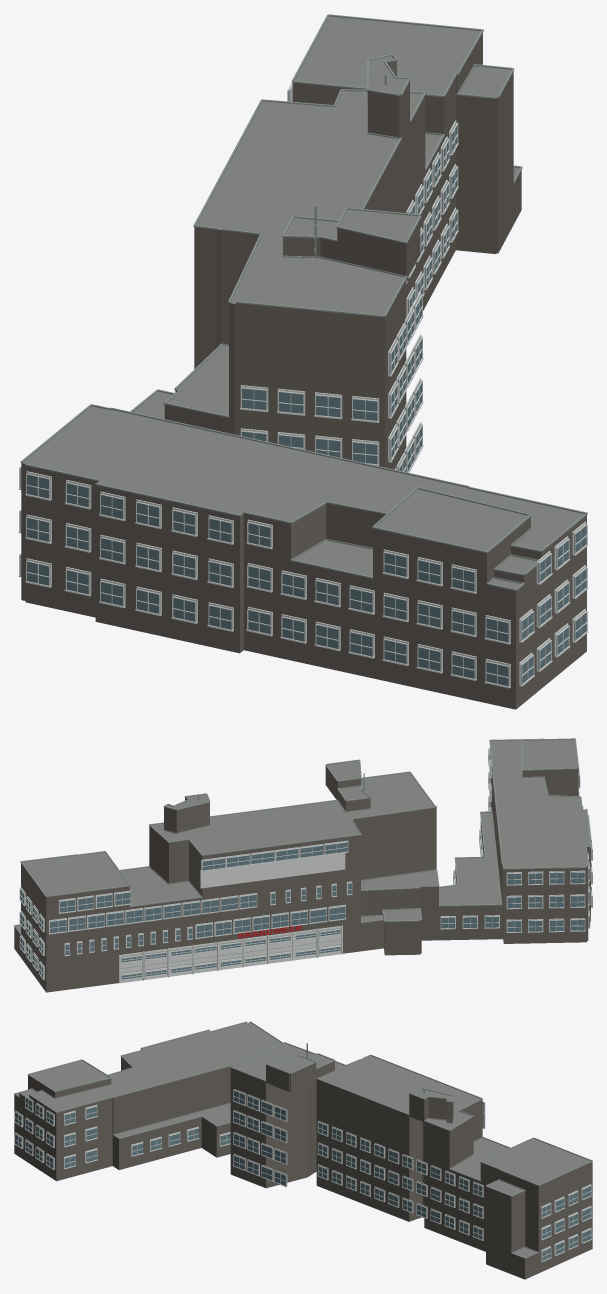
File: fire-station-nico.glb
The picture shows the model from 3 angles, top to bottom: view 1: azimuth 30°, elevation 25°; view 2: azimuth 150°, elevation 25°; view 3: azimuth 270°, elevation 25°; orthographic projection. The views are drawn at different scales.
Visible parts, largest first — view 1: fire-station-nico; view 2: fire-station-nico; view 3: fire-station-nico.
Part boxes in pixels (<box>): fire-station-nico: <box>18,14,588,709</box>; fire-station-nico: <box>14,738,592,992</box>; fire-station-nico: <box>14,1021,592,1279</box>.
Bounding box in the file's own units: 76.11 × 24.9 × 98.23.
